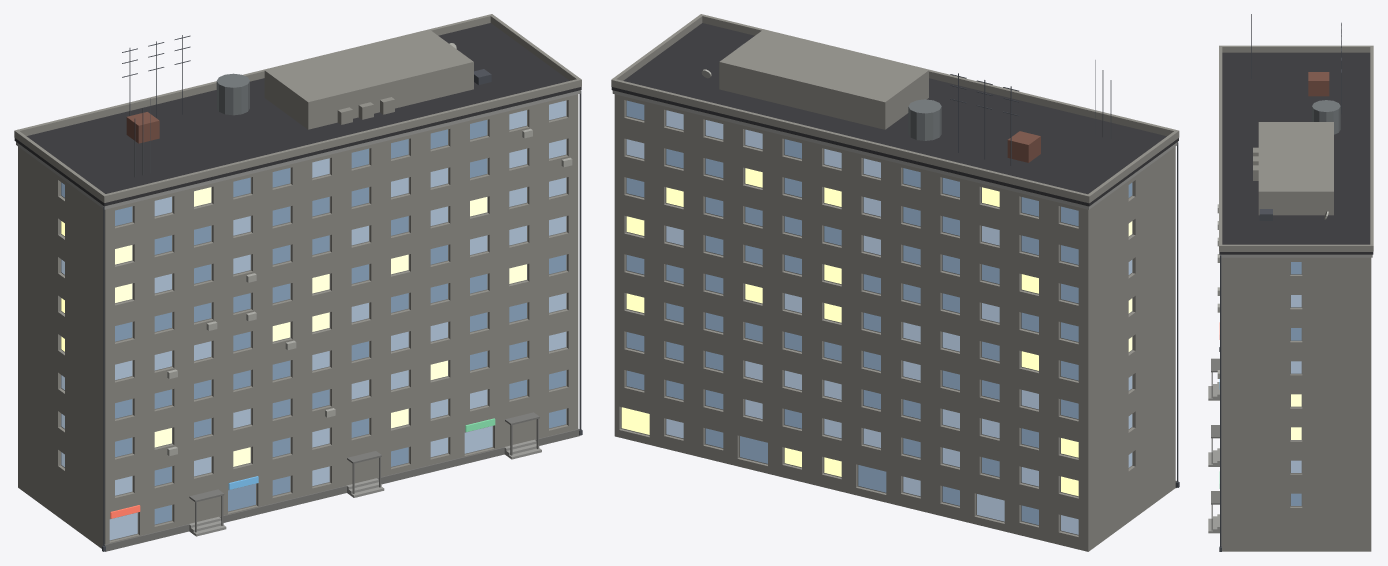
File: panel9_a.glb
The picture shows the model from 3 angles, left to right: view 1: azimuth 30°, elevation 25°; view 2: azimuth 150°, elevation 25°; view 3: azimuth 270°, elevation 25°; orthographic projection. The views are drawn at different scales.
Parts seen in each view (by area): view 1: facade_front, facade_left, roof_slab, tech_floor, parapet_y, plinth, parapet_y.001, cornice, water_tank, downpipe.001, parapet_x, parapet_x.001 (+2 smaller); view 2: facade_back, facade_left, roof_slab, tech_floor, parapet_y.001, parapet_y, cornice, water_tank, parapet_x, parapet_x.001, vent_stack, downpipe; view 3: facade_right, roof_slab, tech_floor, parapet_x.001, parapet_x, parapet_y, parapet_y.001, water_tank, cornice, downpipe.001, vent_stack.
Boxes of the visible parts, x1,y1,x2,y2 form: facade_front: (105,94,578,544); facade_left: (18,146,105,548); roof_slab: (14,23,581,206); tech_floor: (264,30,473,129); parapet_y: (103,78,581,202); plinth: (104,429,579,551); parapet_y.001: (15,14,492,135); cornice: (16,90,580,209); water_tank: (216,73,249,115); downpipe.001: (579,90,581,430); parapet_x: (14,130,106,202); parapet_x.001: (489,14,581,86); facade_back: (614,94,1088,551); facade_left: (1088,147,1175,551); roof_slab: (611,23,1178,206); tech_floor: (719,30,928,129); parapet_y.001: (611,78,1089,203); parapet_y: (700,14,1178,135); cornice: (612,90,1177,209); water_tank: (908,99,941,140); parapet_x: (1087,131,1179,202); parapet_x.001: (611,14,703,80); vent_stack: (1007,131,1040,162); downpipe: (1177,142,1178,482); facade_right: (1221,257,1371,551); roof_slab: (1219,52,1373,254); tech_floor: (1258,122,1333,215); parapet_x.001: (1219,244,1373,251); parapet_x: (1219,45,1373,52); parapet_y: (1219,45,1222,251); parapet_y.001: (1370,45,1373,251); water_tank: (1312,100,1340,134); cornice: (1220,254,1372,257); downpipe.001: (1220,255,1221,547); vent_stack: (1308,72,1329,96).
Size of what is drawn, in the model's own units: 36.44 by 31.2 by 12.67.
